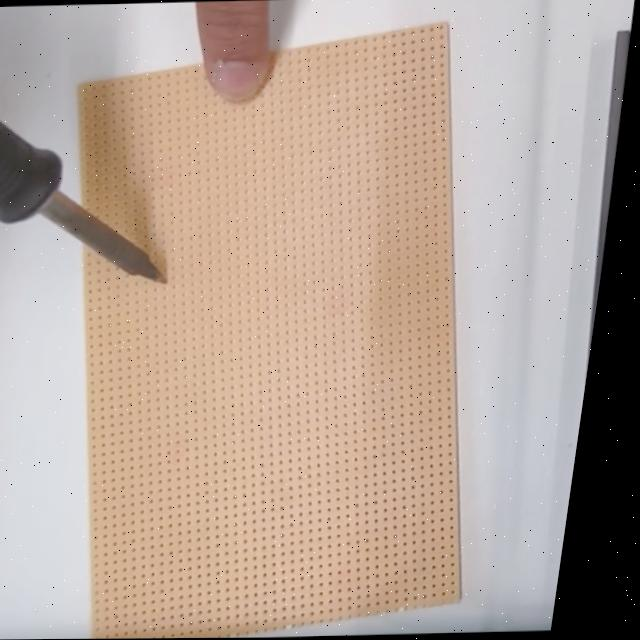soldering_iron: (0, 96, 194, 288)
